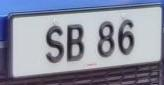6: (115, 16, 139, 60)
8: (94, 18, 118, 63)
B: (64, 18, 88, 67)
S: (42, 20, 66, 68)
